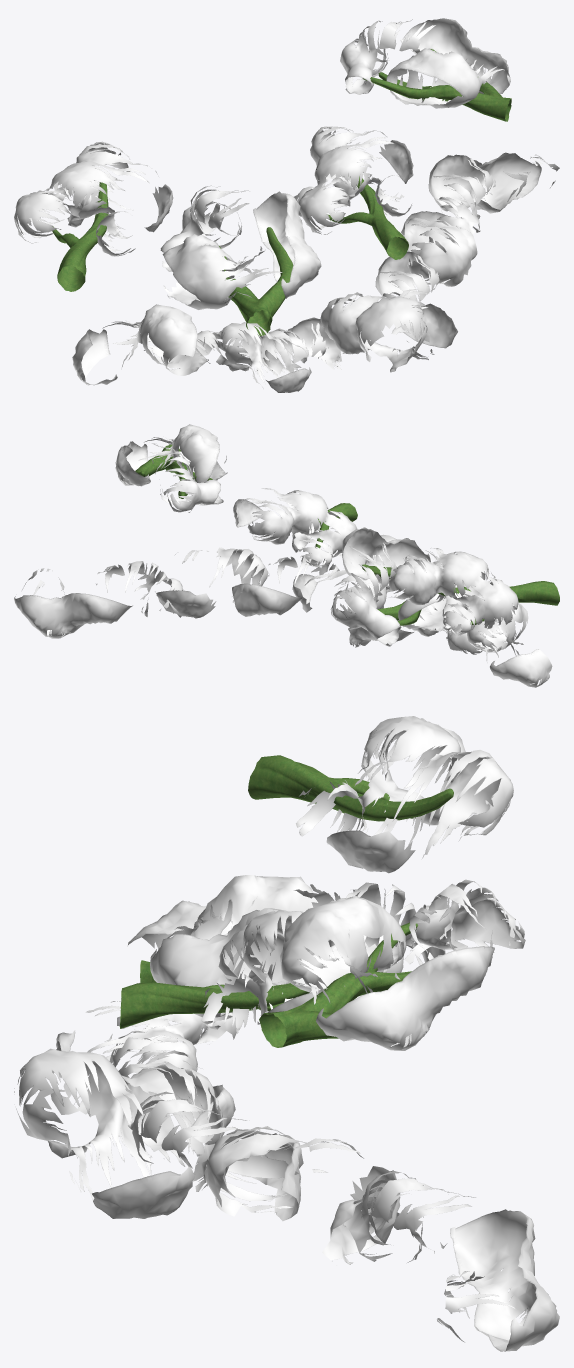
Rendered from SM_ENV_KNFRST_DistanceLeaf_GroupF.FBX.
The picture shows the model from 3 angles, top to bottom: view 1: azimuth 30°, elevation 25°; view 2: azimuth 150°, elevation 25°; view 3: azimuth 270°, elevation 25°; orthographic projection. The views are drawn at different scales.
Parts seen in each view (by area): view 1: SM_ENV_KNFRST_DistanceLeaf_GroupF; view 2: SM_ENV_KNFRST_DistanceLeaf_GroupF; view 3: SM_ENV_KNFRST_DistanceLeaf_GroupF.
Part boxes in pixels (x1,y1,x2,y2): SM_ENV_KNFRST_DistanceLeaf_GroupF: (14, 18, 559, 392); SM_ENV_KNFRST_DistanceLeaf_GroupF: (14, 424, 559, 687); SM_ENV_KNFRST_DistanceLeaf_GroupF: (14, 716, 559, 1351).
Bounding box in the file's own units: 9119 × 4011 × 4835.
